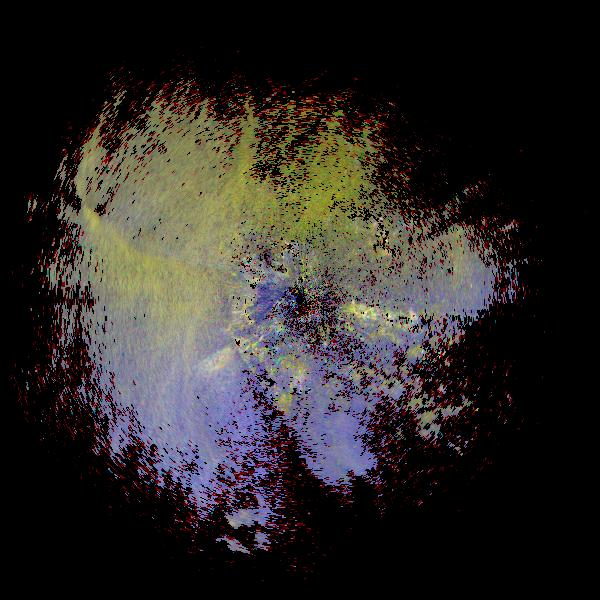roost: (342, 298, 372, 328)
